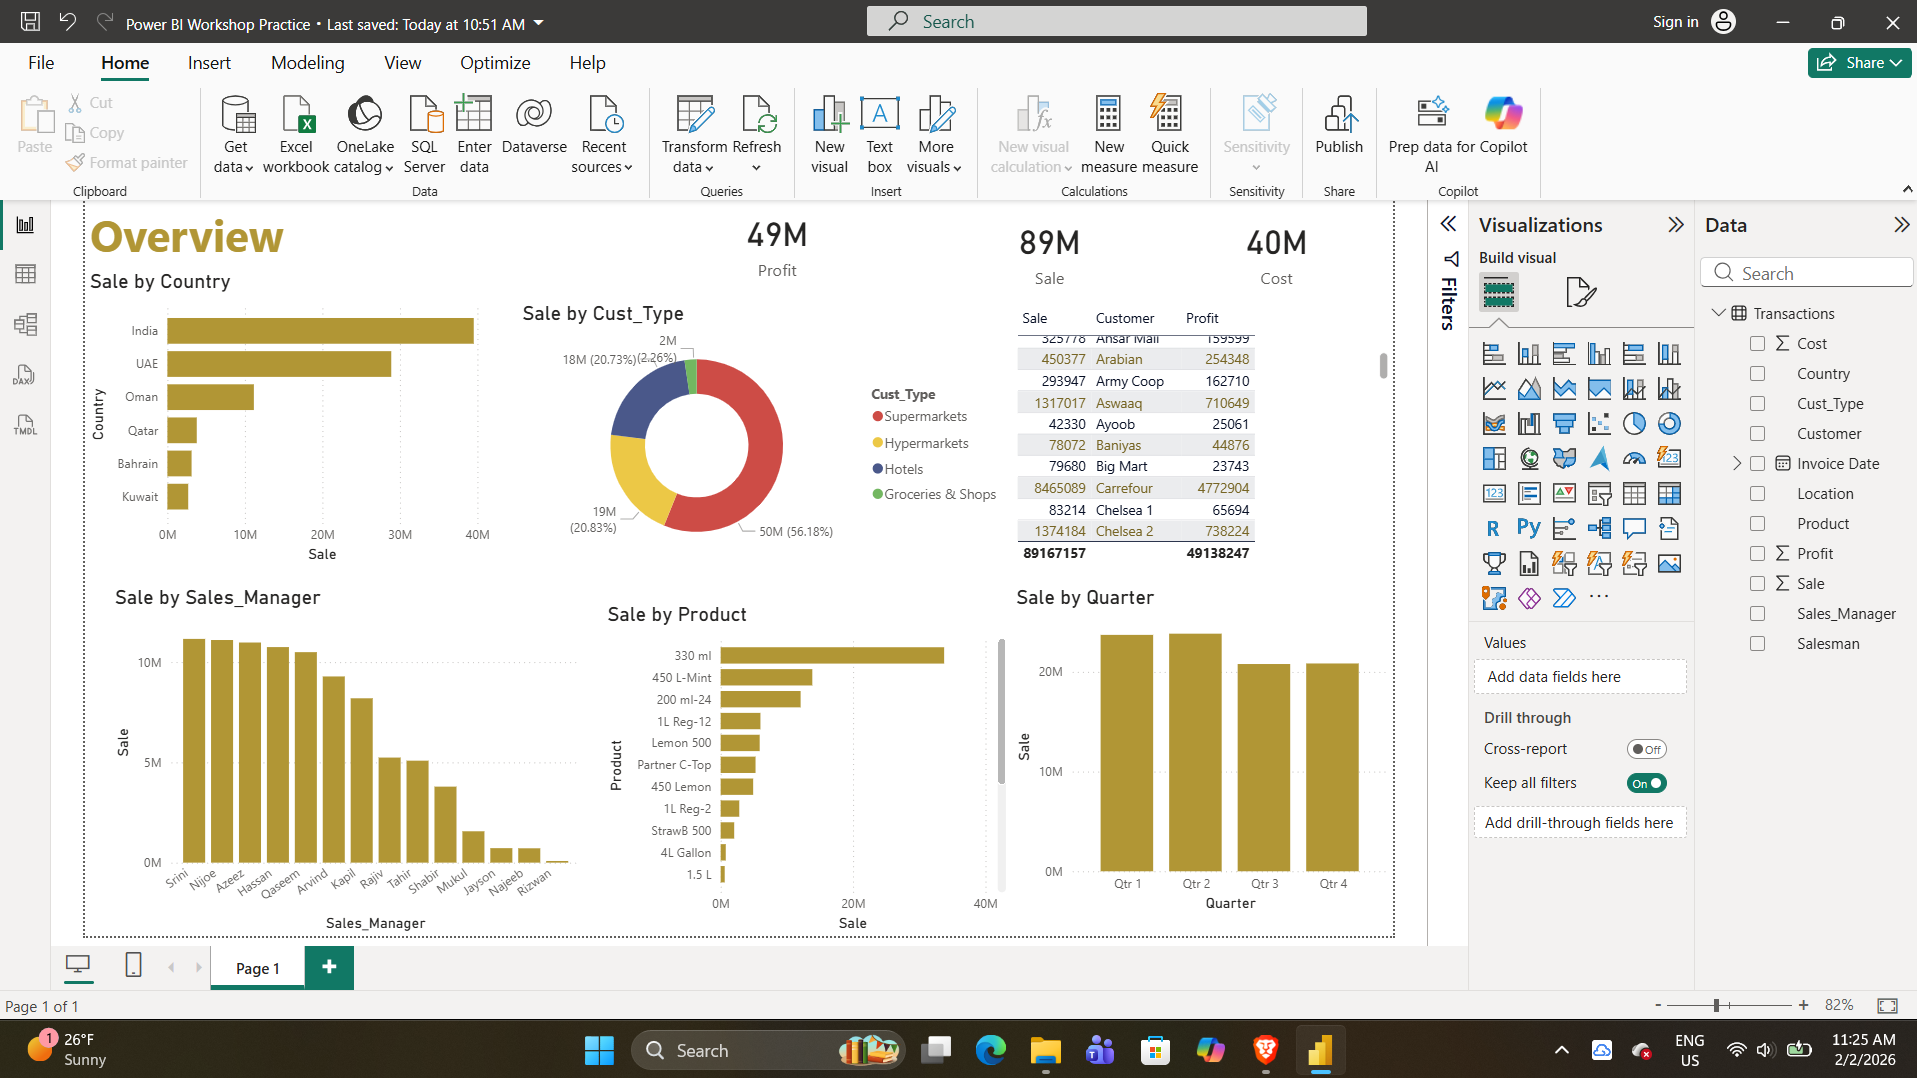

The dashboard page shown, as its layout file describes it:
{"tool":"powerbi","page":{"name":"Page 1","canvas":[1280,720],"ordinal":0},"visuals":[{"type":"textbox","box":[0,0,299.6,299.6],"z":0},{"type":"card","fields":{"Values":["Sum(Transactions.Cost)"]},"box":[1051.6,0,228.7,99],"z":1000},{"type":"card","fields":{"Values":["Sum(Transactions.Sale)"]},"box":[836.4,0,215.2,99],"z":2000},{"type":"card","fields":{"Values":["Sum(Transactions.Profit)"]},"box":[561.3,0,232.3,83.2],"z":3000},{"type":"barChart","fields":{"Y":["Sum(Transactions.Sale)"],"Category":["Transactions.Country"]},"box":[0,67.3,401.1,292.3],"z":4000},{"type":"donutChart","fields":{"Category":["Transactions.Cust_Type"],"Y":["Sum(Transactions.Sale)"]},"box":[423.1,99,483,260.5],"z":5000},{"type":"clusteredColumnChart","fields":{"Category":["Transactions.Sales_Manager"],"Y":["Sum(Transactions.Sale)"]},"box":[24.5,376.6,464.7,343.6],"z":5002},{"type":"clusteredBarChart","fields":{"Category":["Transactions.Product"],"Y":["Sum(Transactions.Sale)"]},"box":[506.3,393.8,399.9,326.5],"z":5003},{"type":"clusteredColumnChart","fields":{"Y":["Sum(Transactions.Sale)"],"Category":["Transactions.Invoice Date.Variation.Date Hierarchy.Quarter"]},"box":[906.1,376.6,374.2,324.1],"z":5004},{"type":"tableEx","fields":{"Values":["Sum(Transactions.Sale)","Transactions.Customer","Sum(Transactions.Profit)"]},"box":[906.1,99,374.2,260.5],"z":5005}]}

Visuals, with their boxes on the page's 1280x720 design canvas (x1, y1, x2, y2). These are canvas units, not pixel positions in the 1917x1078 screenshot, which may show the page scaled, cropped or inside an application window:
textbox: crop(0, 0, 300, 300)
card - Sum(Transactions.Cost): crop(1052, 0, 1280, 99)
card - Sum(Transactions.Sale): crop(836, 0, 1052, 99)
card - Sum(Transactions.Profit): crop(561, 0, 794, 83)
barChart - Sum(Transactions.Sale) x Transactions.Country: crop(0, 67, 401, 360)
donutChart - Transactions.Cust_Type x Sum(Transactions.Sale): crop(423, 99, 906, 360)
clusteredColumnChart - Transactions.Sales_Manager x Sum(Transactions.Sale): crop(24, 377, 489, 720)
clusteredBarChart - Transactions.Product x Sum(Transactions.Sale): crop(506, 394, 906, 720)
clusteredColumnChart - Sum(Transactions.Sale) x Transactions.Invoice Date.Variation.Date Hierarchy.Quarter: crop(906, 377, 1280, 701)
tableEx - Sum(Transactions.Sale) x Transactions.Customer: crop(906, 99, 1280, 360)
